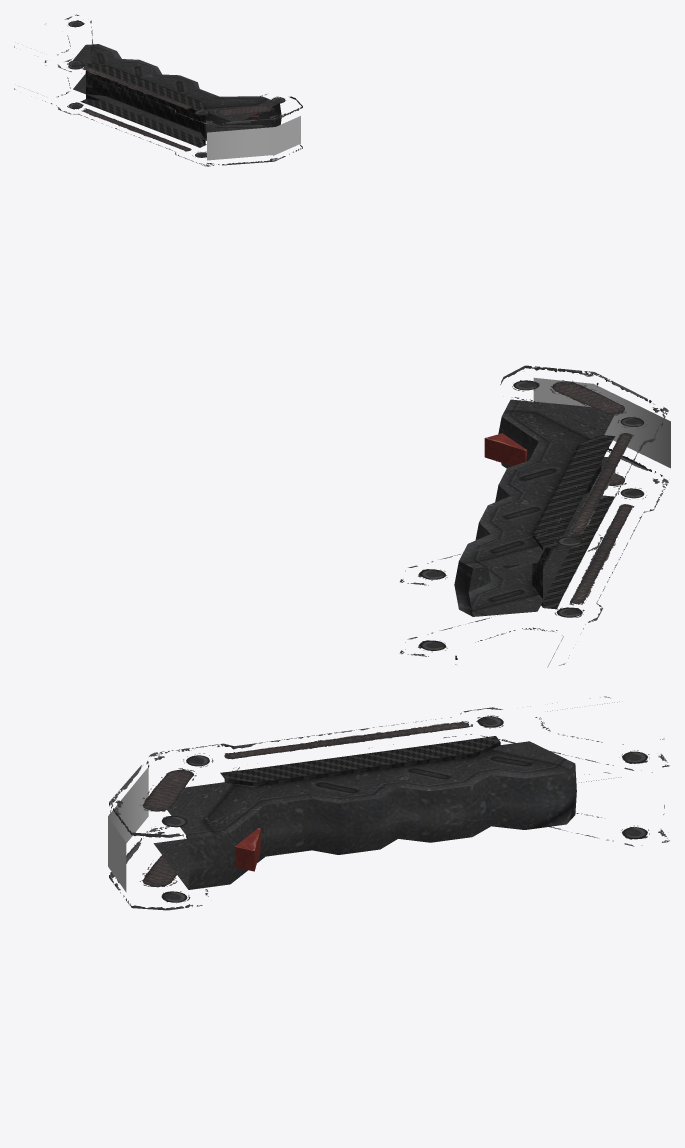
File: t6_wpn_ballistic_knife_world_LOD0.obj
3 views of the same model, one above another, from view 1: azimuth 30°, elevation 25°; view 2: azimuth 150°, elevation 25°; view 3: azimuth 270°, elevation 25° (orthographic). The views are drawn at different scales.
Visible parts, largest first — view 1: mtl_t6_wpn_ballistic_knife_camo1, mtl_t6_wpn_ballistic_knife_camo2, mtl_clan_tag_world; view 2: mtl_t6_wpn_ballistic_knife_camo1, mtl_t6_wpn_ballistic_knife_camo2, mtl_clan_tag_world; view 3: mtl_t6_wpn_ballistic_knife_camo1, mtl_t6_wpn_ballistic_knife_camo2, mtl_clan_tag_world.
Part boxes in pixels (x1=…): mtl_t6_wpn_ballistic_knife_camo1: x1=14, y1=14, x2=285, y2=166; mtl_t6_wpn_ballistic_knife_camo2: x1=42, y1=60, x2=302, y2=166; mtl_clan_tag_world: x1=207, y1=116, x2=300, y2=160; mtl_t6_wpn_ballistic_knife_camo1: x1=399, y1=369, x2=668, y2=667; mtl_t6_wpn_ballistic_knife_camo2: x1=405, y1=365, x2=666, y2=659; mtl_clan_tag_world: x1=533, y1=377, x2=670, y2=468; mtl_t6_wpn_ballistic_knife_camo1: x1=109, y1=696, x2=669, y2=903; mtl_t6_wpn_ballistic_knife_camo2: x1=109, y1=728, x2=664, y2=910; mtl_clan_tag_world: x1=108, y1=767, x2=148, y2=892.
Size of the model in its own units: 27.89 by 2.29 by 18.06.
